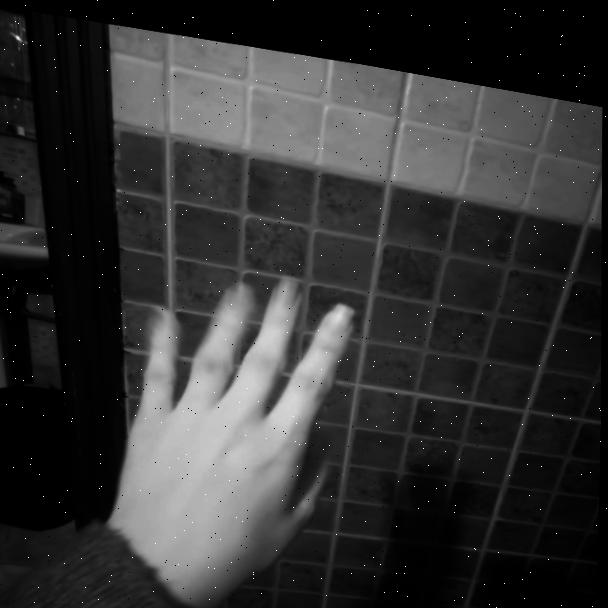four: (115, 241, 375, 595)
